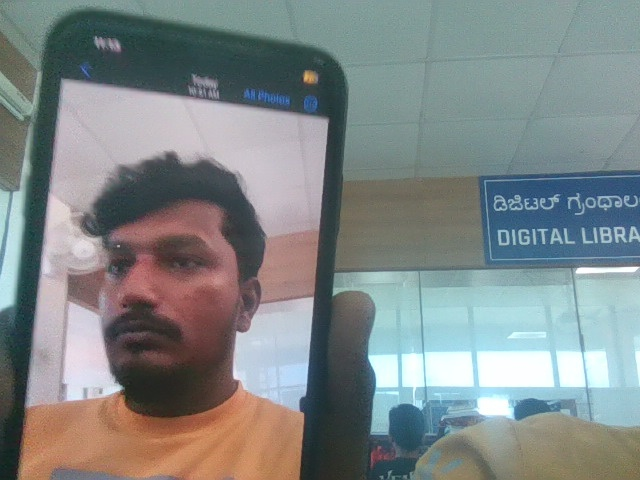fake: (75, 133, 269, 408)
